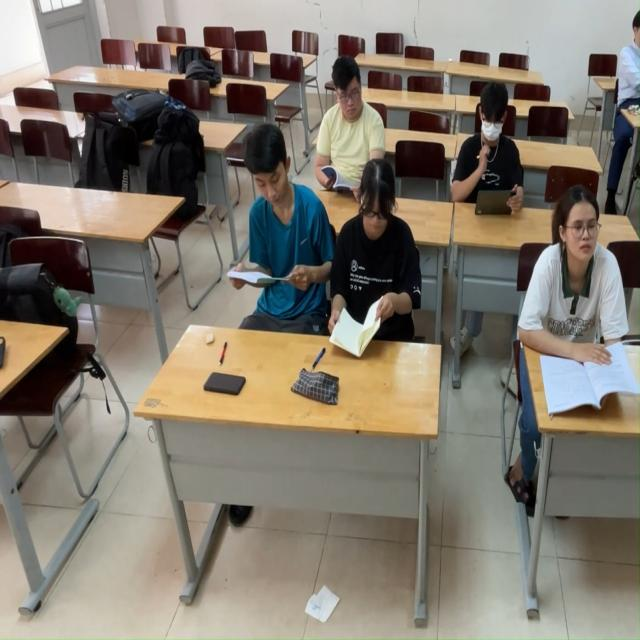read: (509, 194, 637, 418), (226, 125, 322, 351), (336, 164, 427, 355), (313, 53, 396, 187), (459, 91, 528, 219)
